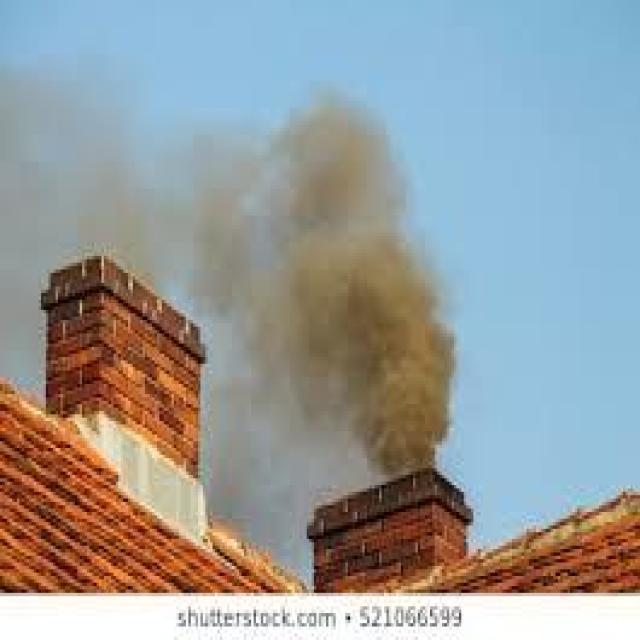Smoke: (273, 101, 466, 484)
